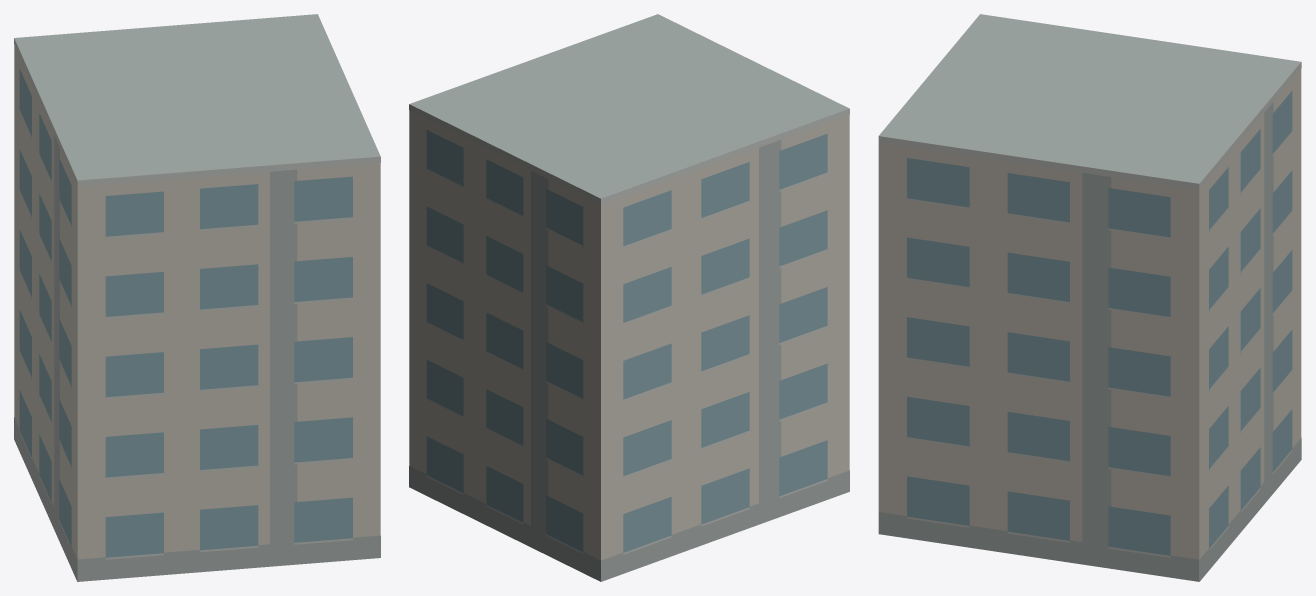
The model's file is residential-4ae95141-5e78-471b-a0ee-7eaf643b8ed4.glb.
3 views of the same model, side by side, from view 1: azimuth 30°, elevation 25°; view 2: azimuth 150°, elevation 25°; view 3: azimuth 270°, elevation 25° (orthographic). The views are drawn at different scales.
Parts seen in each view (by area): view 1: residential-4ae95141-5e78-471b-a0ee-7eaf643b8ed4.tmp; view 2: residential-4ae95141-5e78-471b-a0ee-7eaf643b8ed4.tmp; view 3: residential-4ae95141-5e78-471b-a0ee-7eaf643b8ed4.tmp.
Boxes of the visible parts, x1=… form: residential-4ae95141-5e78-471b-a0ee-7eaf643b8ed4.tmp: x1=14, y1=14, x2=380, y2=581; residential-4ae95141-5e78-471b-a0ee-7eaf643b8ed4.tmp: x1=409, y1=14, x2=849, y2=581; residential-4ae95141-5e78-471b-a0ee-7eaf643b8ed4.tmp: x1=878, y1=14, x2=1301, y2=581.
Size of the model in its own units: 13.96 by 15.25 by 14.69.
